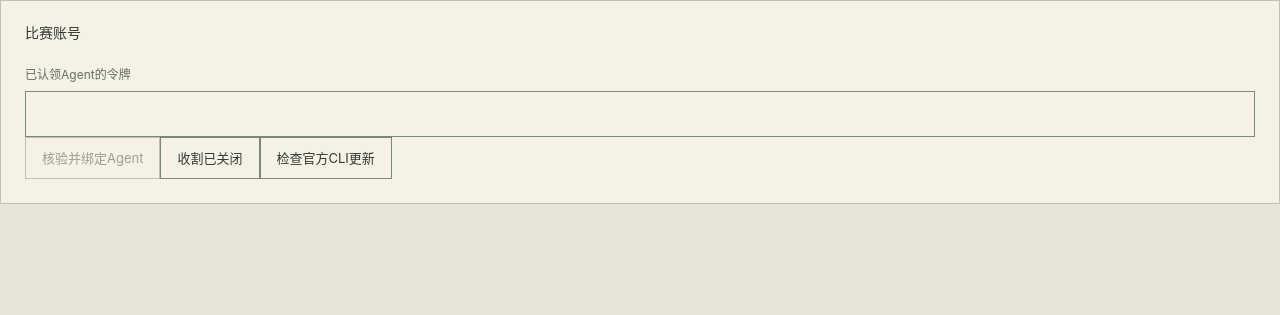
imports an owned agent token, clears the field, and refreshes accounts
Type "fixture-agent-token" into the password field labelled "已认领Agent的令牌" at (640, 114), box left=25, top=91, right=1255, bottom=137
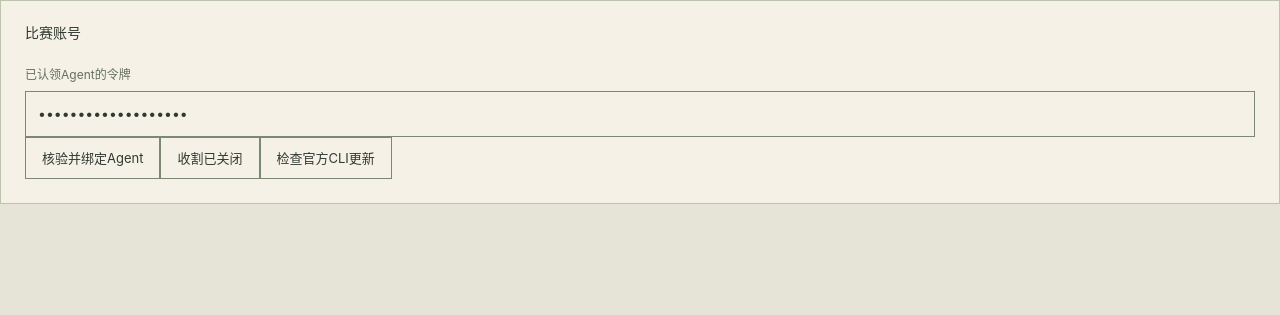
Click the button "核验并绑定Agent" at (93, 158), box left=25, top=137, right=160, bottom=179
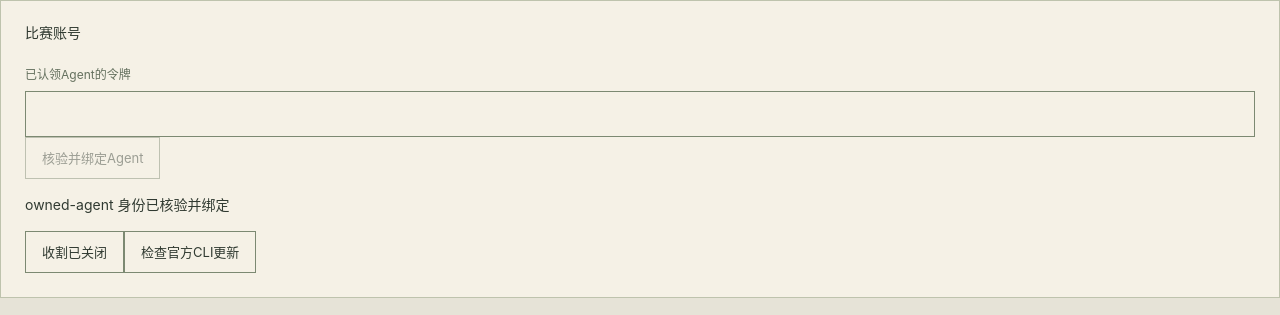
Check: the text "owned-agent 身份已核验并绑定" is shown, box left=25, top=196, right=230, bottom=213
Check: the password field labelled "已认领Agent的令牌" is empty, box left=25, top=91, right=1255, bottom=137
